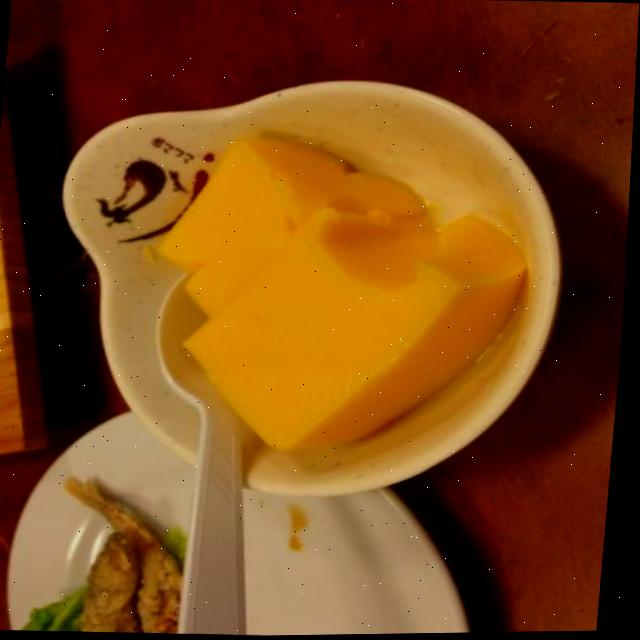蛋糕甜品: (17, 33, 609, 523)
